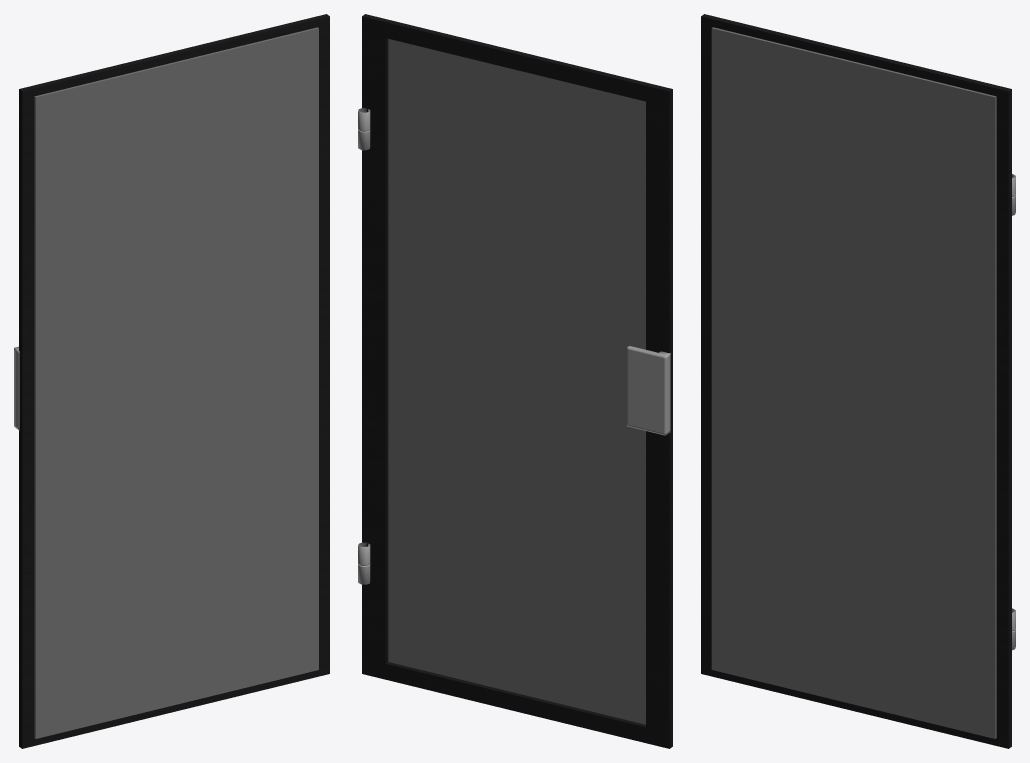
The model's file is Door.glb.
3 views of the same model, side by side, from view 1: azimuth 30°, elevation 25°; view 2: azimuth 150°, elevation 25°; view 3: azimuth 330°, elevation 25° (orthographic).
Parts seen in each view (by area): view 1: Glass; view 2: Glass; view 3: Glass.
Part boxes in pixels (x1=…): Glass: x1=14, y1=14, x2=329, y2=748; Glass: x1=358, y1=14, x2=672, y2=748; Glass: x1=701, y1=14, x2=1015, y2=748.
Size of the model in its own units: 0.8801 by 1.79 by 0.0535.
3 materials, 1 textured.
